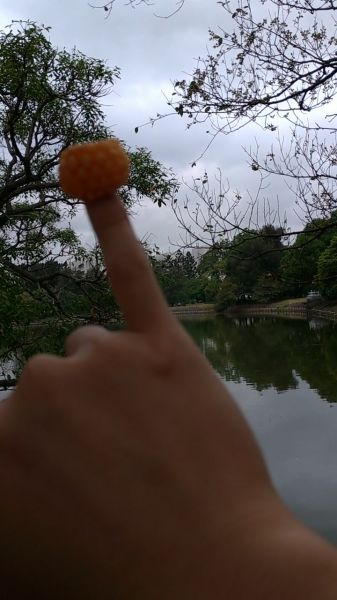eggs: (58, 140, 131, 200)
